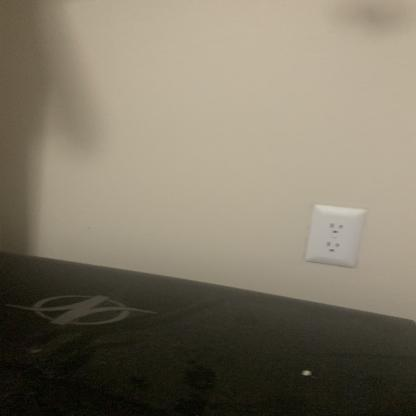OUTLET: (308, 204, 363, 266)
